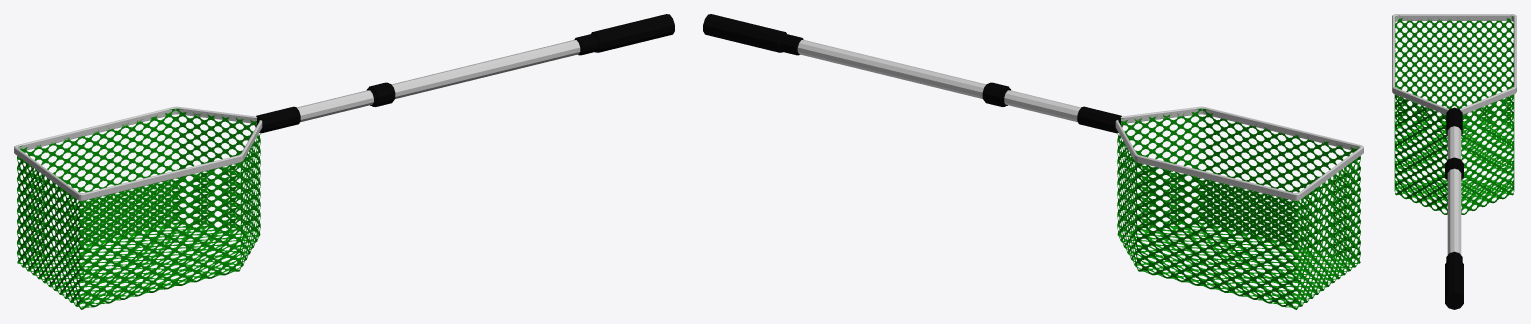
The model's file is FishingRod.fbx.
3 renders of one model, left to right at view 1: azimuth 30°, elevation 25°; view 2: azimuth 150°, elevation 25°; view 3: azimuth 270°, elevation 25°, orthographic. The views are drawn at different scales.
Parts seen in each view (by area): view 1: FishingRodShort; view 2: FishingRodShort; view 3: FishingRodShort.
Part boxes in pixels (x1,y1,x2,y2): FishingRodShort: (14, 14, 674, 309); FishingRodShort: (703, 14, 1363, 309); FishingRodShort: (1392, 14, 1516, 309).
Size of the model in its own units: 235 by 43.76 by 44.
